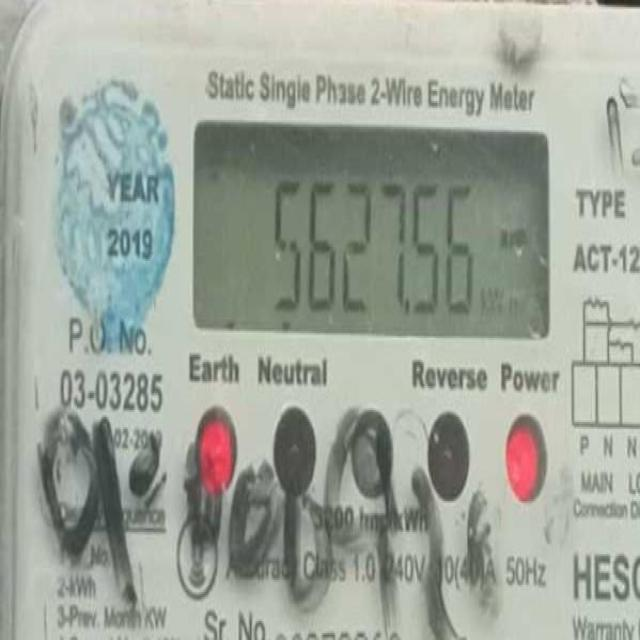2: (342, 170, 378, 325)
5: (409, 171, 443, 326), (271, 170, 305, 324)
6: (441, 168, 482, 327), (306, 168, 341, 322)
7: (377, 171, 411, 322)
Digital meter: (190, 125, 552, 341)
point: (404, 294, 414, 318)
